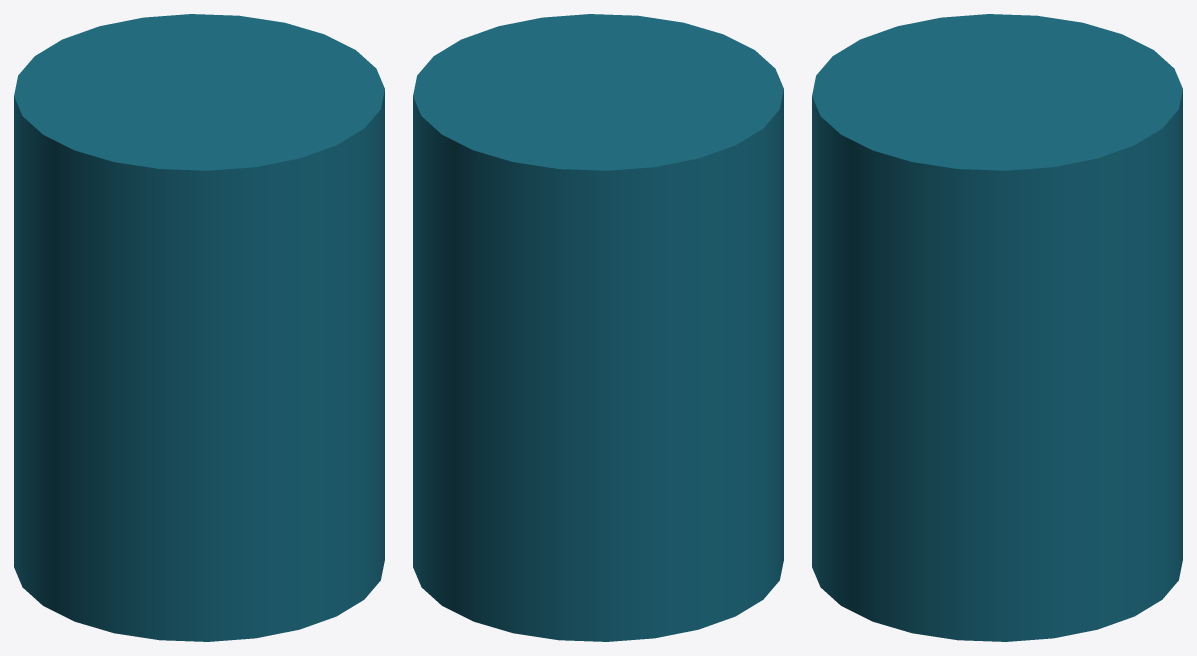
The model's file is original-12.obj.
3 views of the same model, side by side, from view 1: azimuth 30°, elevation 25°; view 2: azimuth 150°, elevation 25°; view 3: azimuth 270°, elevation 25° (orthographic).
Parts seen in each view (by area): view 1: group_11/ID83#ID83; view 2: group_11/ID83#ID83; view 3: group_11/ID83#ID83.
Part boxes in pixels (x1=…): group_11/ID83#ID83: x1=14, y1=14, x2=384, y2=641; group_11/ID83#ID83: x1=413, y1=14, x2=783, y2=641; group_11/ID83#ID83: x1=812, y1=14, x2=1182, y2=641.
Bounding box in the file's own units: 0.0705 × 0.0988 × 0.0705.
